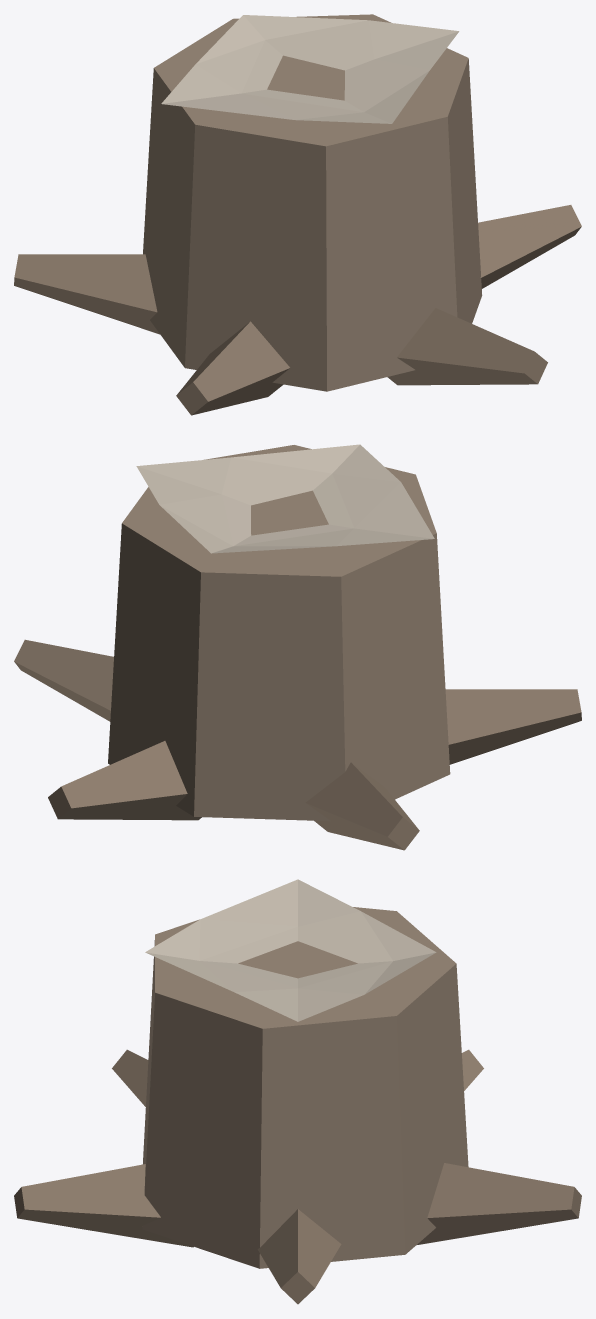
The model's file is stump_v01.glb.
3 renders of one model, top to bottom at view 1: azimuth 30°, elevation 25°; view 2: azimuth 150°, elevation 25°; view 3: azimuth 270°, elevation 25°, orthographic. The views are drawn at different scales.
Visible parts, largest first — view 1: lod0; view 2: lod0; view 3: lod0.
Boxes of the visible parts, bbox=[...] form: lod0: bbox=[14, 14, 581, 415]; lod0: bbox=[14, 444, 581, 850]; lod0: bbox=[14, 879, 581, 1304].
Size of what is drawn, in the model's own units: 0.8812 by 0.5365 by 0.9227.
